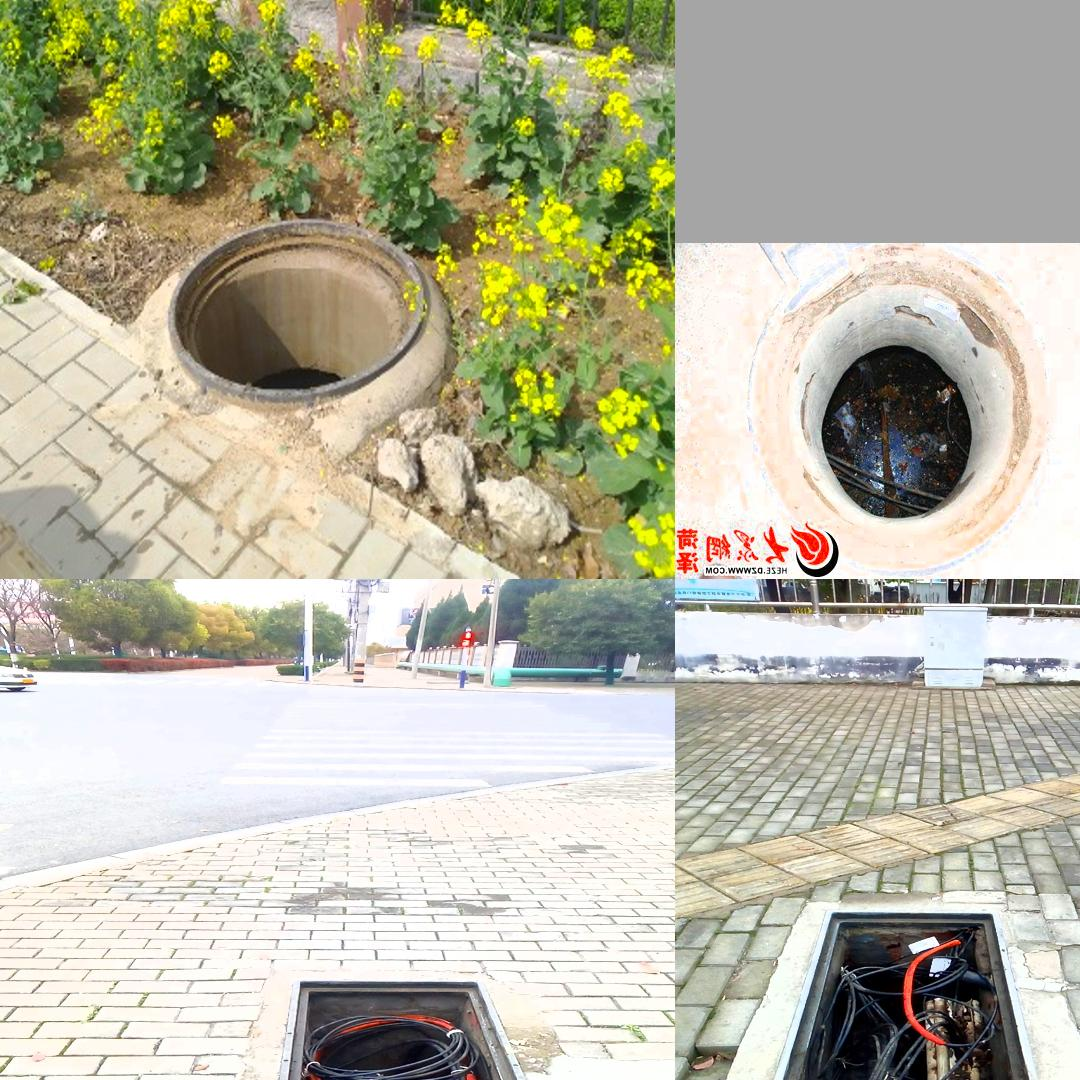lose: (741, 246, 1055, 572), (168, 216, 430, 406), (776, 887, 1032, 1080), (267, 960, 562, 1080)
